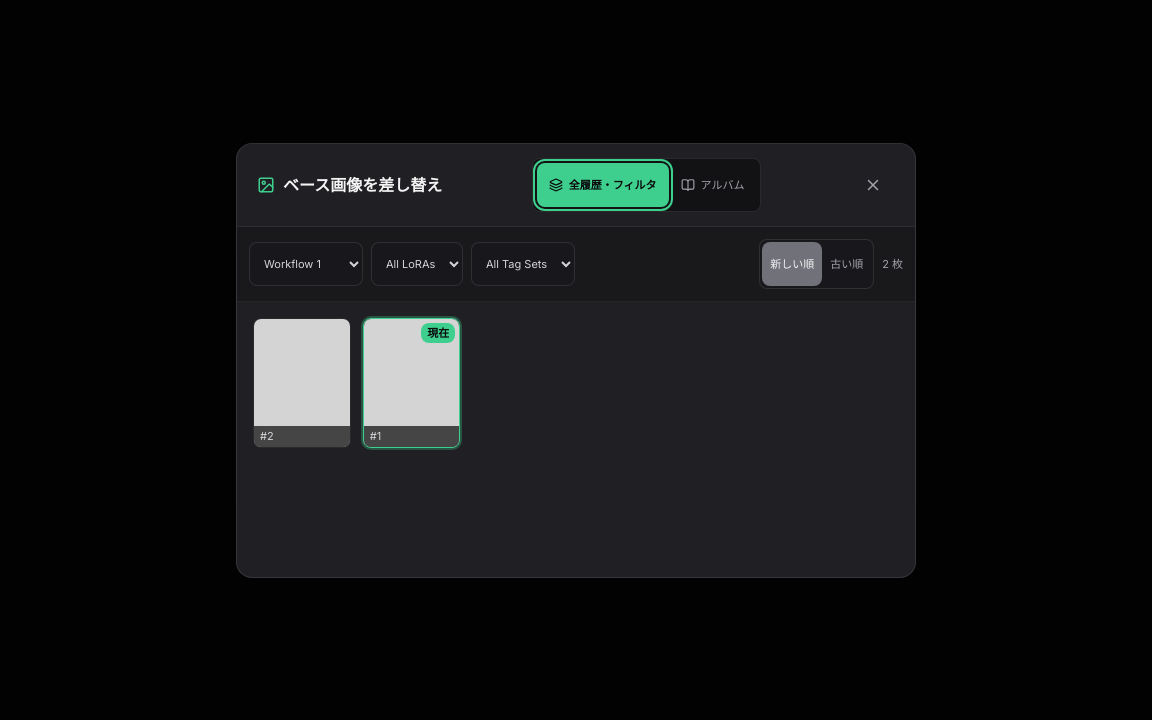
BaseImageSelectModal › uses the accessible common sheet wrapper and gives snapshot and album controls 44px targets
The width and height of the screenshot is (1152, 720).
Expected: the text "#2" is shown, left=254, top=426, right=350, bottom=447
Click the button "アルバム".
click(712, 184)  # box left=668, top=162, right=756, bottom=206
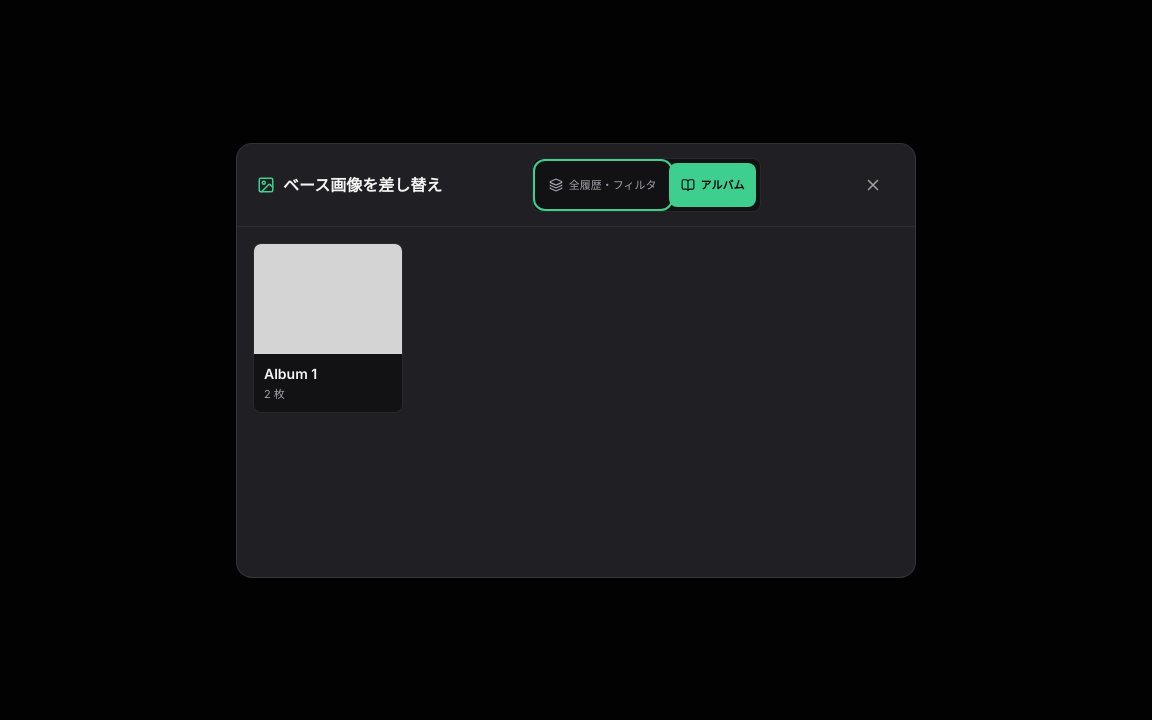
Result: the text "Album 1" is shown at left=264, top=364, right=317, bottom=384
